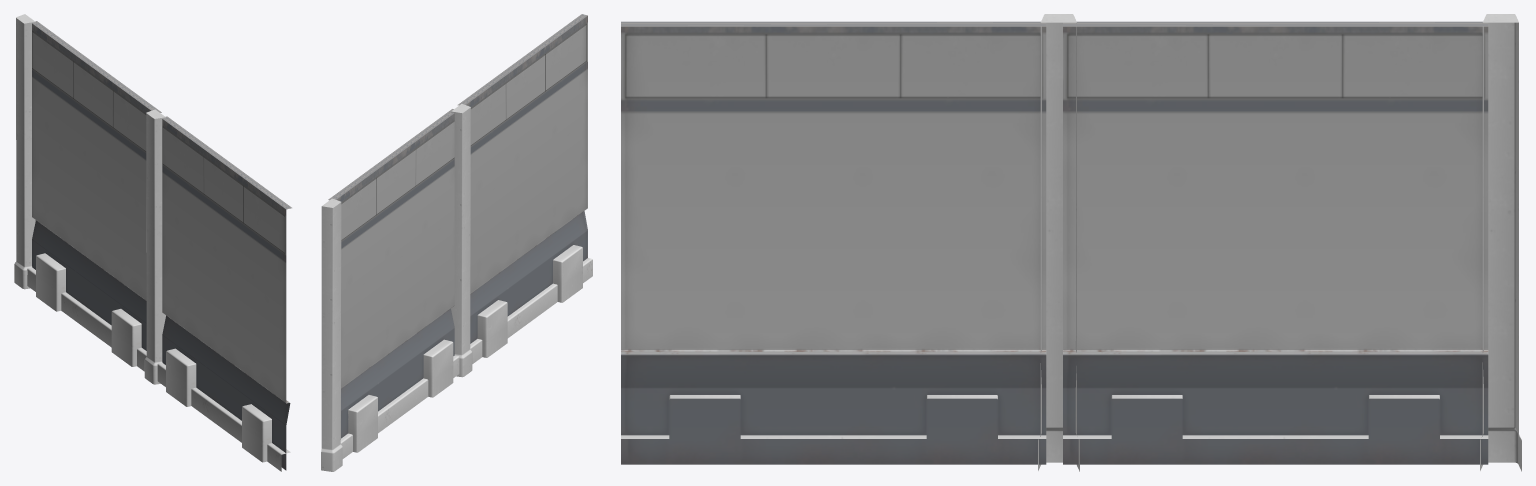
Rendered from Pfb_JALB_WallPart2_Line__23.fbx.
The picture shows the model from 3 angles, left to right: view 1: azimuth 30°, elevation 25°; view 2: azimuth 150°, elevation 25°; view 3: azimuth 270°, elevation 25°; orthographic projection. The views are drawn at different scales.
Parts seen in each view (by area): view 1: MAT_JLABWall; view 2: MAT_JLABWall; view 3: MAT_JLABWall.
Boxes of the visible parts, x1,y1,x2,y2 form: MAT_JLABWall: (14,14,291,471); MAT_JLABWall: (321,14,592,471); MAT_JLABWall: (621,14,1521,471).
Bounding box in the file's own units: 0.2509 × 4.04 × 7.34.
1 material, 1 textured.
